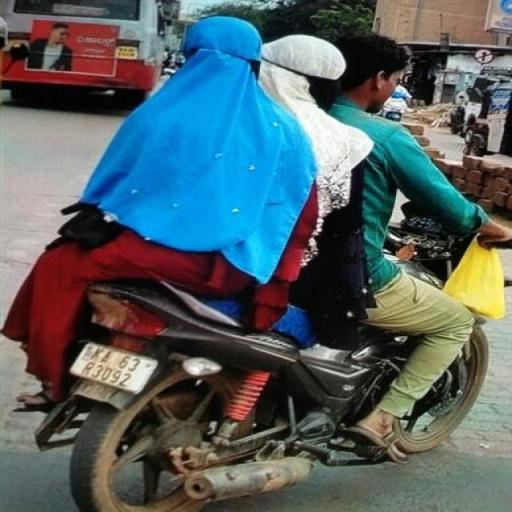tripple riding: (14, 14, 512, 326)
